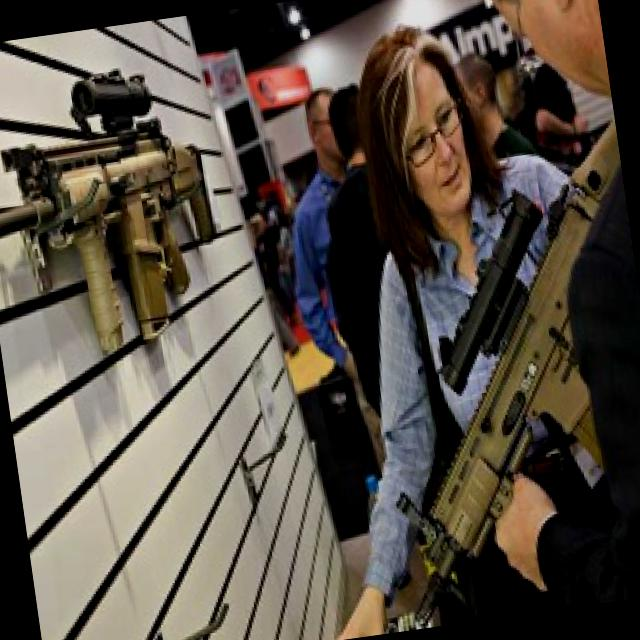long weapon: (274, 172, 639, 635), (0, 36, 245, 376)
